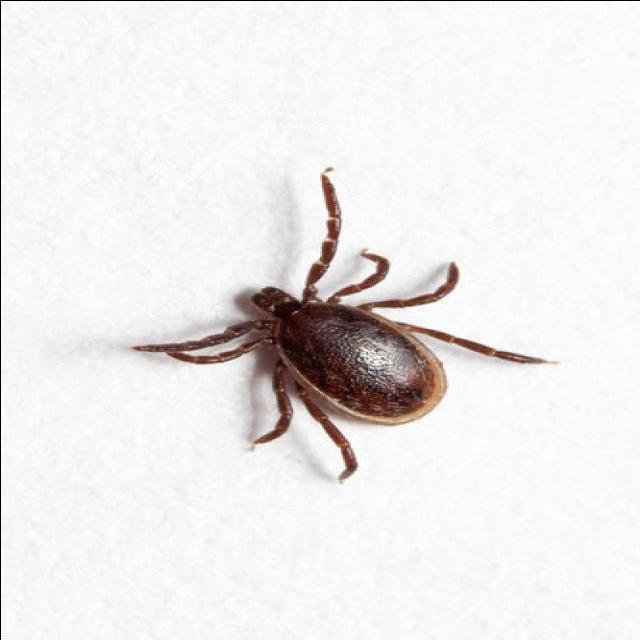Ixodes Ricinus-M: (129, 168, 550, 485)
